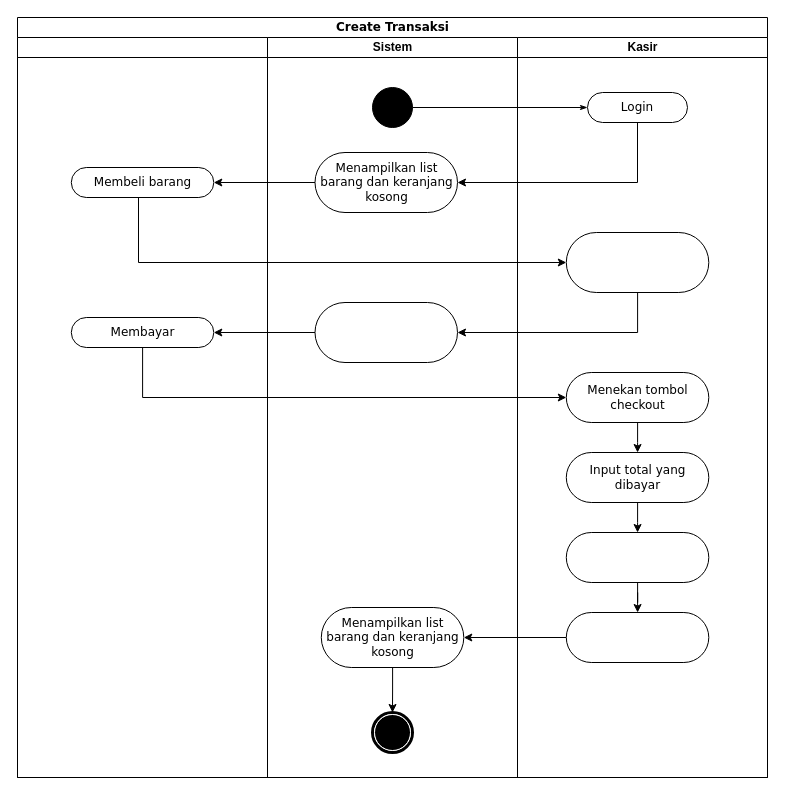
This 785x795 diagram has some shape labels left out. Here are the shapes that lost their labels. From the top down, the box of each, then its label:
(565, 232, 709, 292): Menambah barang ke keranjang
(314, 302, 458, 362): Menampilkan list barang dan update keranjang
(16, 36, 268, 778): Pembeli
(565, 532, 709, 582): Menulis note (opsional)
(565, 612, 709, 662): Menekan tombol konfirmasi checkout
